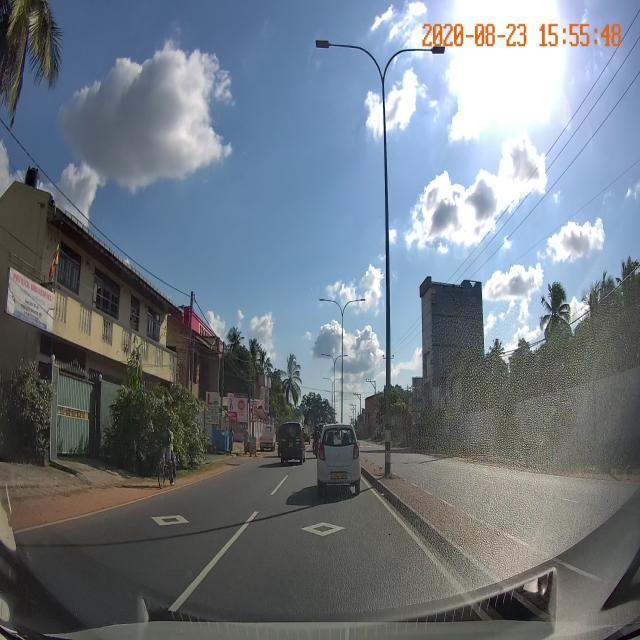diamond: (237, 517, 419, 540)
